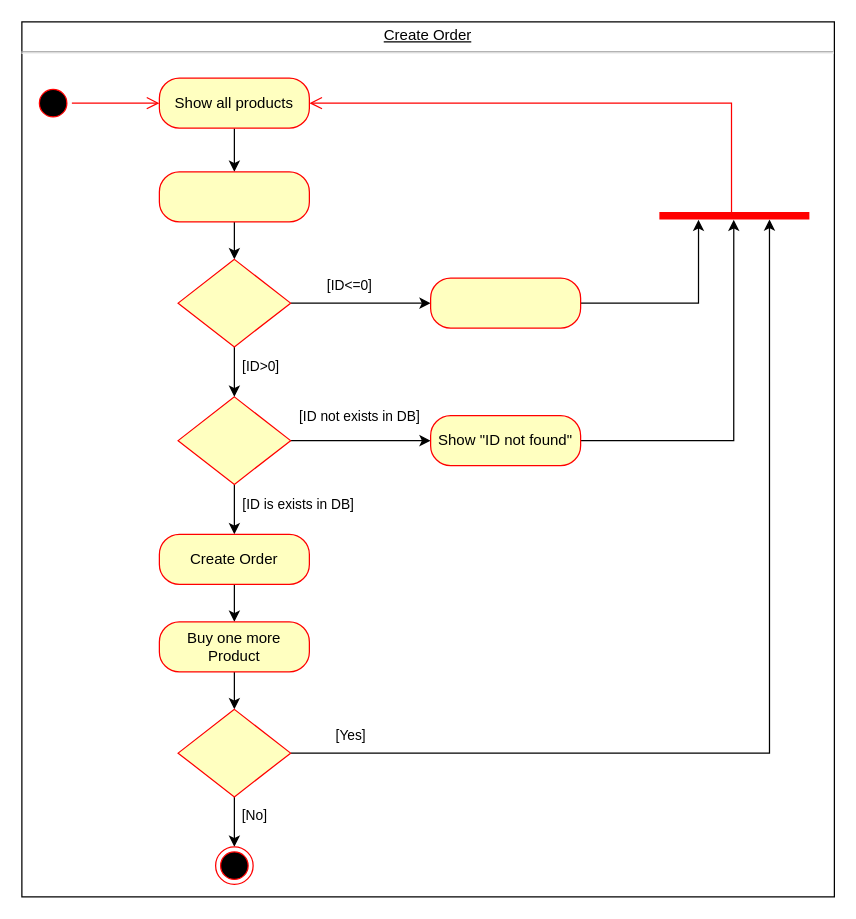
Image size: 856x919. Some labels were removed from this diagram. The shapes that lost their labels are listed below. From the top down, each one's centre as x and y in pixels, then its label:
[233,196]: Enter the productID
[505,302]: Show" Error ID"
